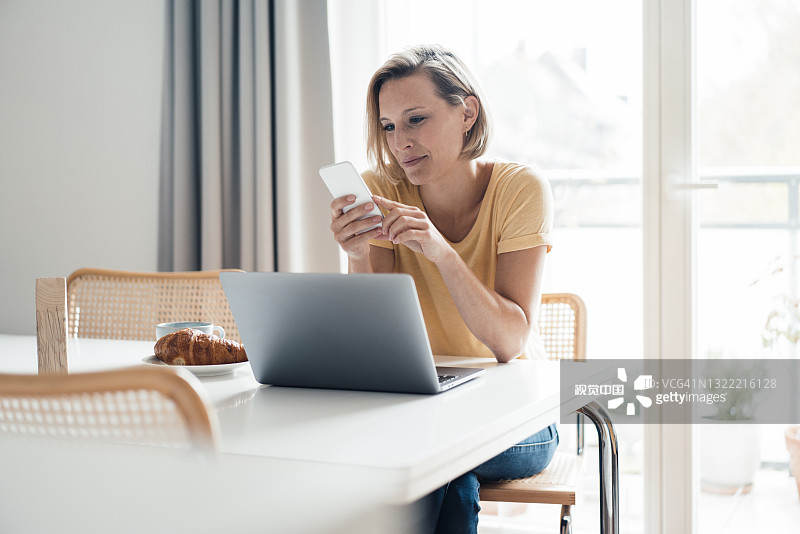reading: (306, 160, 466, 273)
